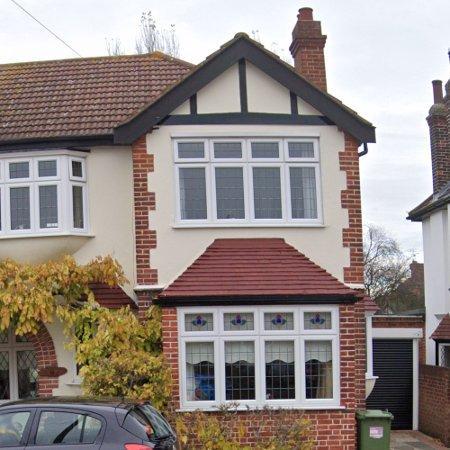chimneys: (290, 7, 328, 91), (427, 80, 450, 194)
